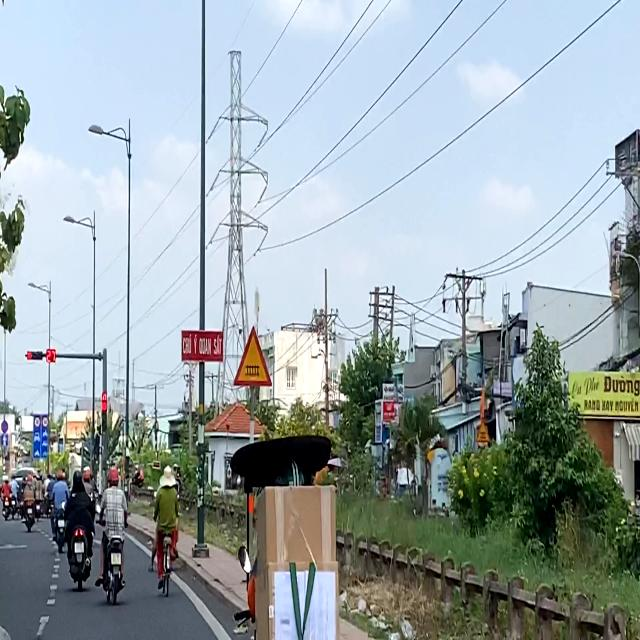W.210: (233, 324, 273, 388)
